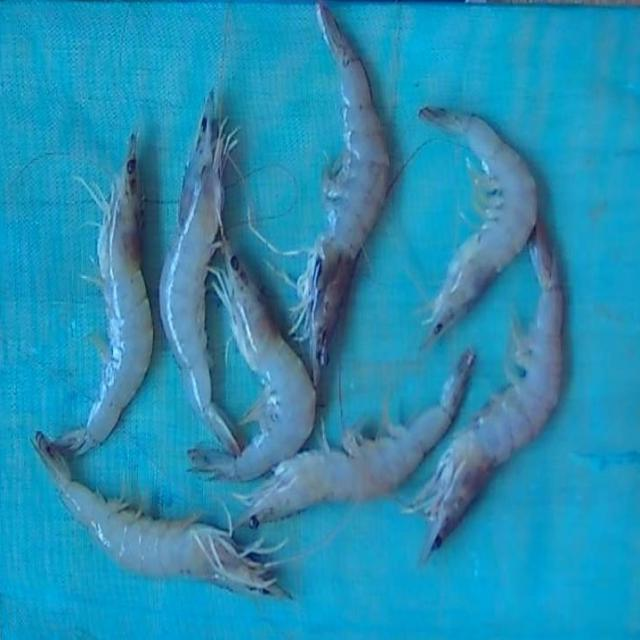shrimp: (411, 222, 563, 559), (238, 350, 475, 527), (32, 432, 285, 596), (292, 2, 390, 385), (53, 134, 152, 454), (188, 235, 315, 481), (158, 91, 240, 457), (419, 107, 538, 341)
